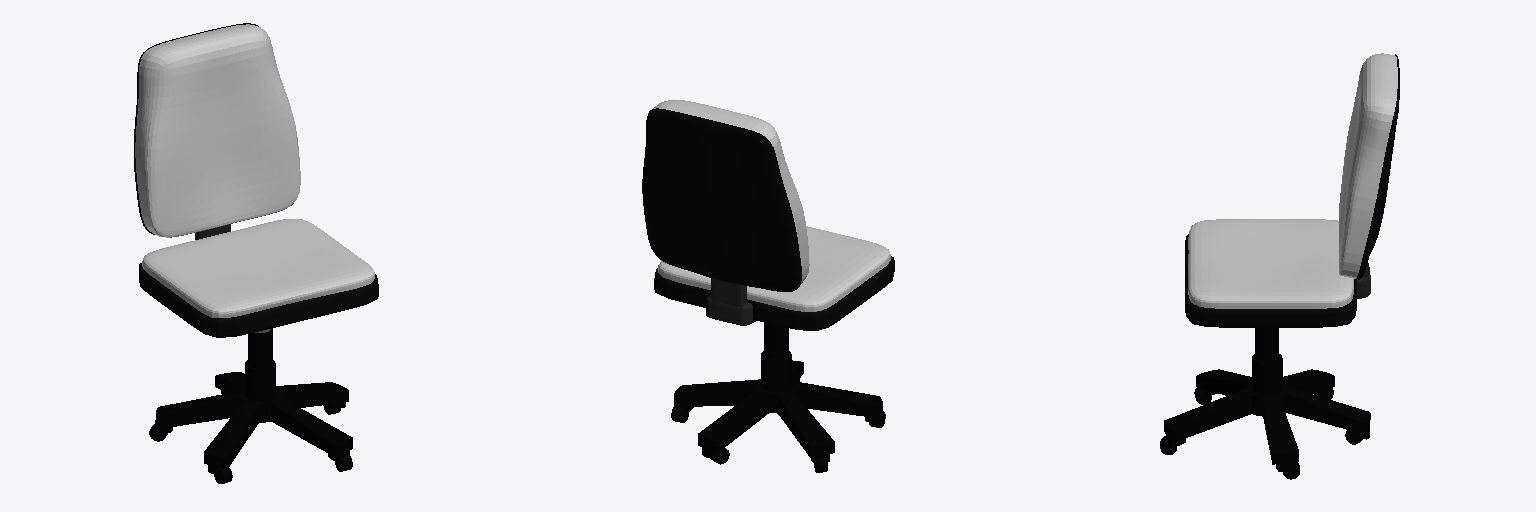
File: seat.obj
3 renders of one model, left to right at view 1: azimuth 30°, elevation 25°; view 2: azimuth 150°, elevation 25°; view 3: azimuth 270°, elevation 25°, orthographic.
Visible parts, largest first — view 1: Cube.002, Cube, Cylinder.001, Cube.001, Cylinder; view 2: Cube.004, Cylinder.001, Cube, Cube.001, Cube.002, Cylinder, Cube.003; view 3: Cube, Cylinder.001, Cube.002, Cube.001, Cylinder, Cube.004.
Boxes of the visible parts, <box> form: Cube.002: <box>135,24,300,237</box>; Cube: <box>142,219,374,317</box>; Cylinder.001: <box>155,372,352,474</box>; Cube.001: <box>139,263,378,337</box>; Cylinder: <box>245,328,275,400</box>; Cube.004: <box>642,108,801,291</box>; Cylinder.001: <box>674,360,882,463</box>; Cube: <box>658,226,890,311</box>; Cube.001: <box>654,256,894,330</box>; Cube.002: <box>653,100,809,283</box>; Cylinder: <box>761,323,791,391</box>; Cube.003: <box>706,278,755,325</box>; Cube: <box>1188,219,1353,308</box>; Cylinder.001: <box>1164,369,1370,471</box>; Cube.002: <box>1339,53,1397,278</box>; Cube.001: <box>1185,234,1356,327</box>; Cylinder: <box>1252,328,1282,394</box>; Cube.004: <box>1356,54,1399,279</box>.
Size of the model in its own units: 2.12 by 4.1 by 2.46.